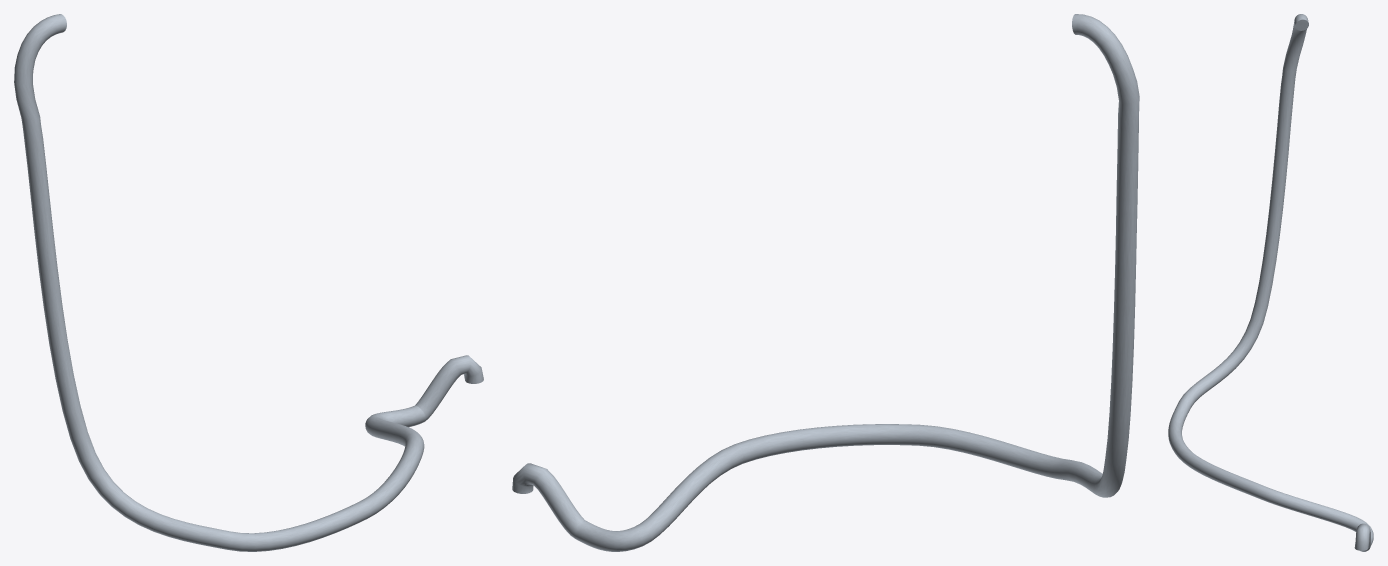
The model's file is SM_Cable_2_Splines_21.fbx.
3 renders of one model, left to right at view 1: azimuth 30°, elevation 25°; view 2: azimuth 150°, elevation 25°; view 3: azimuth 270°, elevation 25°, orthographic. The views are drawn at different scales.
Visible parts, largest first — view 1: SM_Cable_2_Splines_21; view 2: SM_Cable_2_Splines_21; view 3: SM_Cable_2_Splines_21.
Boxes of the visible parts, x1,y1,x2,y2 form: SM_Cable_2_Splines_21: (14,14,483,551); SM_Cable_2_Splines_21: (512,14,1139,551); SM_Cable_2_Splines_21: (1168,14,1373,551).
Size of the model in its own units: 280 by 134 by 281.
